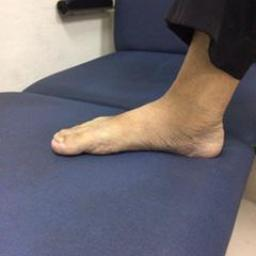Medial View -Right Foot-: (46, 70, 237, 168)
